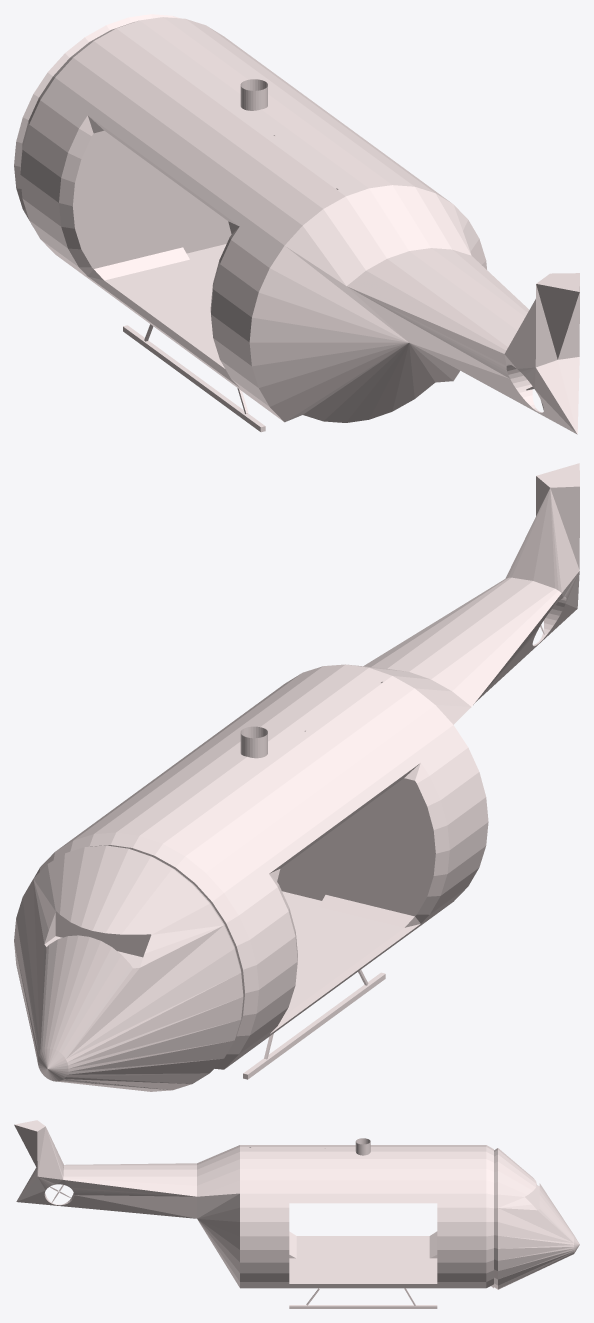
Rendered from heri.obj.
3 renders of one model, top to bottom at view 1: azimuth 30°, elevation 25°; view 2: azimuth 150°, elevation 25°; view 3: azimuth 270°, elevation 25°, orthographic. The views are drawn at different scales.
Visible parts, largest first — view 1: 円柱; view 2: 円柱; view 3: 円柱.
Boxes of the visible parts, x1,y1,x2,y2 form: 円柱: [14, 14, 579, 434]; 円柱: [14, 463, 579, 1091]; 円柱: [14, 1120, 579, 1308].
Bounding box in the file's own units: 2 × 2.5 × 7.65.
Materials: 1 (1 with a texture image).
